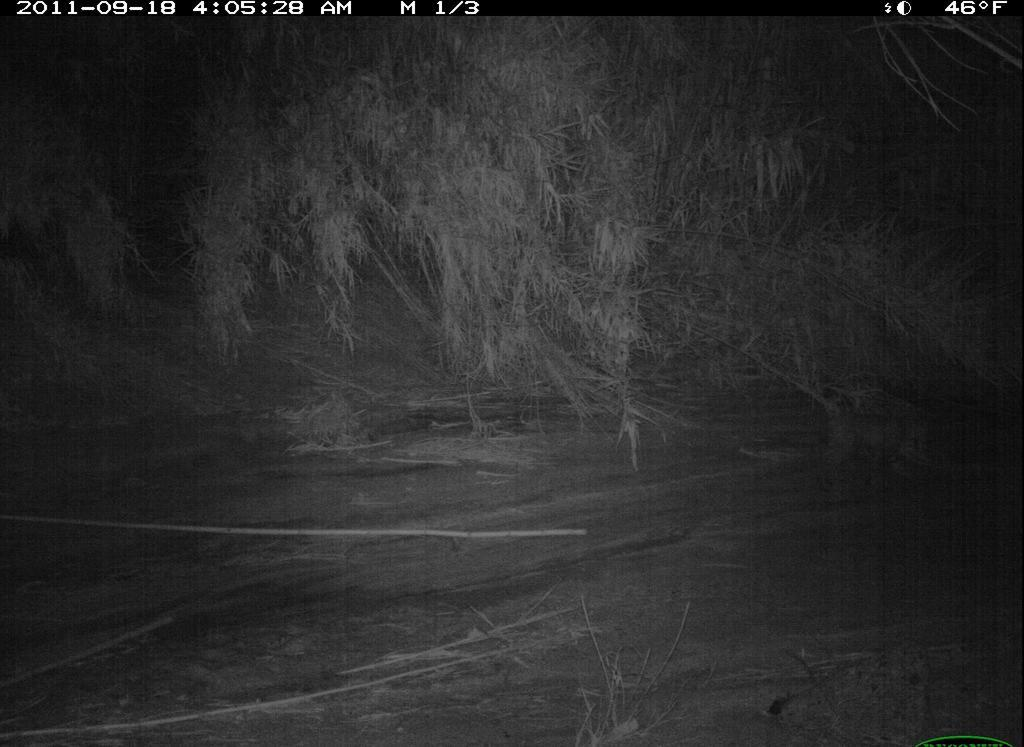bobcat: (818, 404, 940, 493)
